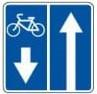road_sign: (2, 0, 95, 92)
